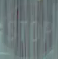Stop: (5, 4, 54, 50)
